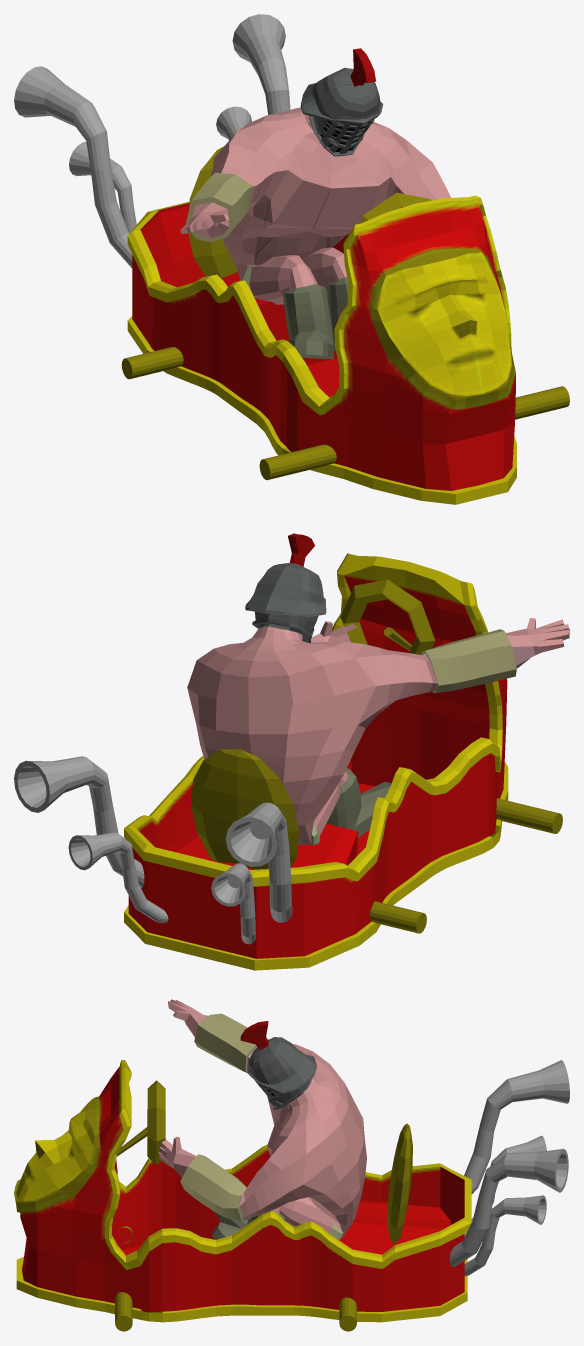
Rendered from gladiVacile_000533.obj.
3 views of the same model, one above another, from view 1: azimuth 30°, elevation 25°; view 2: azimuth 150°, elevation 25°; view 3: azimuth 270°, elevation 25° (orthographic). The views are drawn at different scales.
Visible parts, largest first — view 1: GladiChasis_GladiChasisH, Gadiador_Gladiador_H.001, GladiTubos_GladiTubosH, GladiVolante_GladiVolanteH; view 2: GladiChasis_GladiChasisH, Gadiador_Gladiador_H.001, GladiTubos_GladiTubosH, GladiVolante_GladiVolanteH; view 3: GladiChasis_GladiChasisH, Gadiador_Gladiador_H.001, GladiTubos_GladiTubosH, GladiVolante_GladiVolanteH.
Part boxes in pixels (x1,y1,x2,y2): GladiChasis_GladiChasisH: [127, 195, 516, 504]; Gadiador_Gladiador_H.001: [180, 48, 450, 359]; GladiTubos_GladiTubosH: [14, 14, 290, 268]; GladiVolante_GladiVolanteH: [121, 146, 569, 480]; GladiChasis_GladiChasisH: [124, 553, 508, 970]; Gadiador_Gladiador_H.001: [187, 533, 569, 845]; GladiTubos_GladiTubosH: [14, 756, 292, 944]; GladiVolante_GladiVolanteH: [191, 579, 562, 933]; GladiChasis_GladiChasisH: [14, 1060, 471, 1322]; Gadiador_Gladiador_H.001: [158, 999, 366, 1239]; GladiTubos_GladiTubosH: [449, 1060, 569, 1275]; GladiVolante_GladiVolanteH: [115, 1080, 412, 1331].
Bounding box in the file's own units: 6.29 × 5.74 × 10.78.
